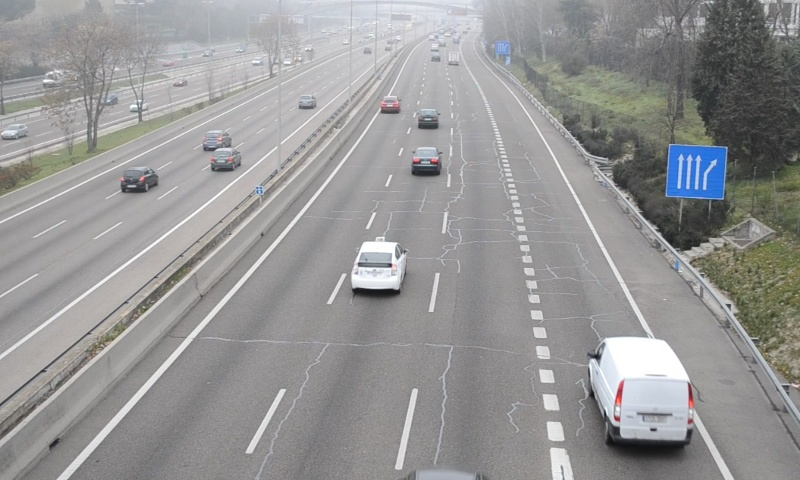car: (353, 240, 404, 291), (412, 146, 440, 172), (379, 95, 400, 114), (417, 108, 439, 126)
van: (589, 336, 694, 446)
